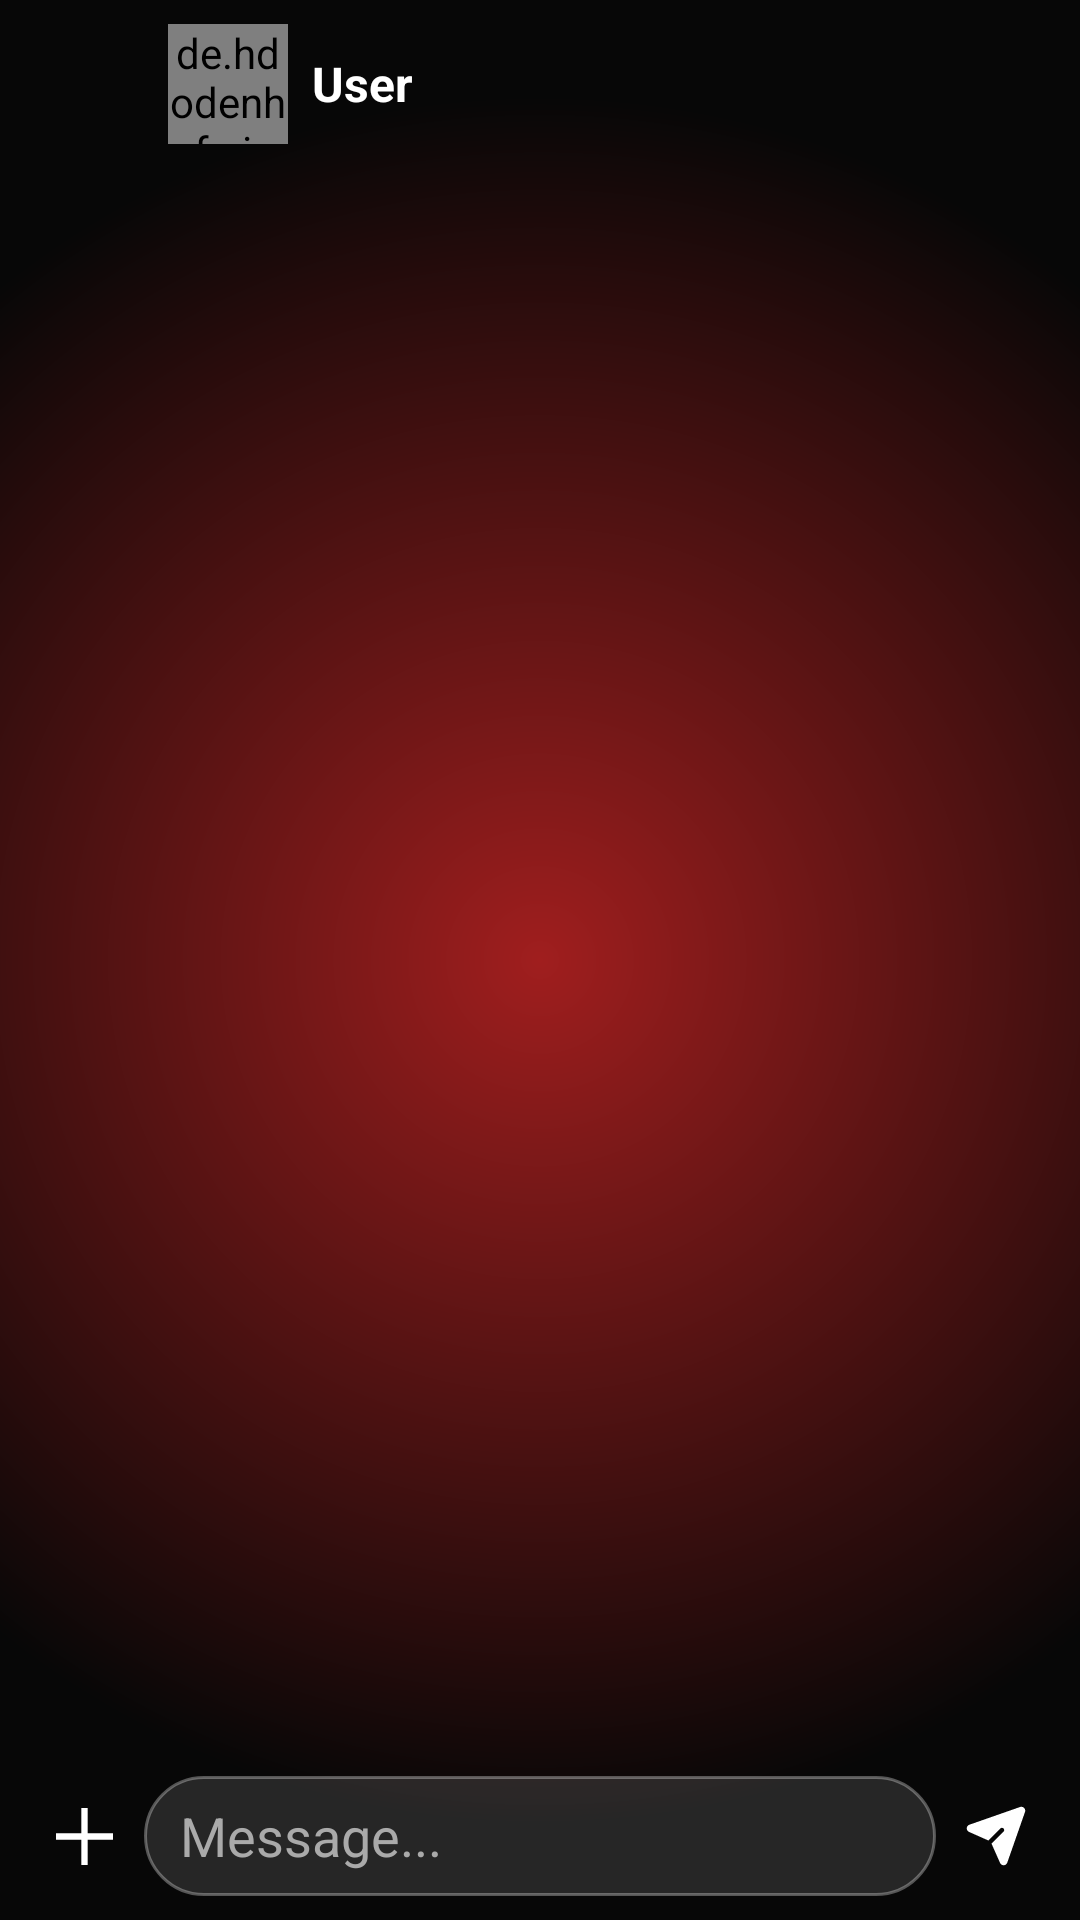

Where to tap for icons on this 1080w x 1920h app screen, as (x=x, y=y):
attach: (x=84, y=1836)
send: (x=996, y=1836)
